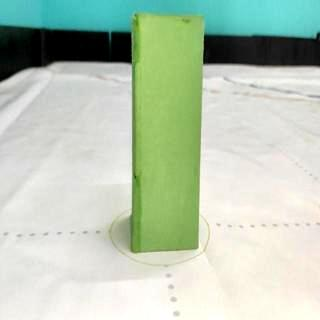greenbox: (129, 10, 205, 254)
